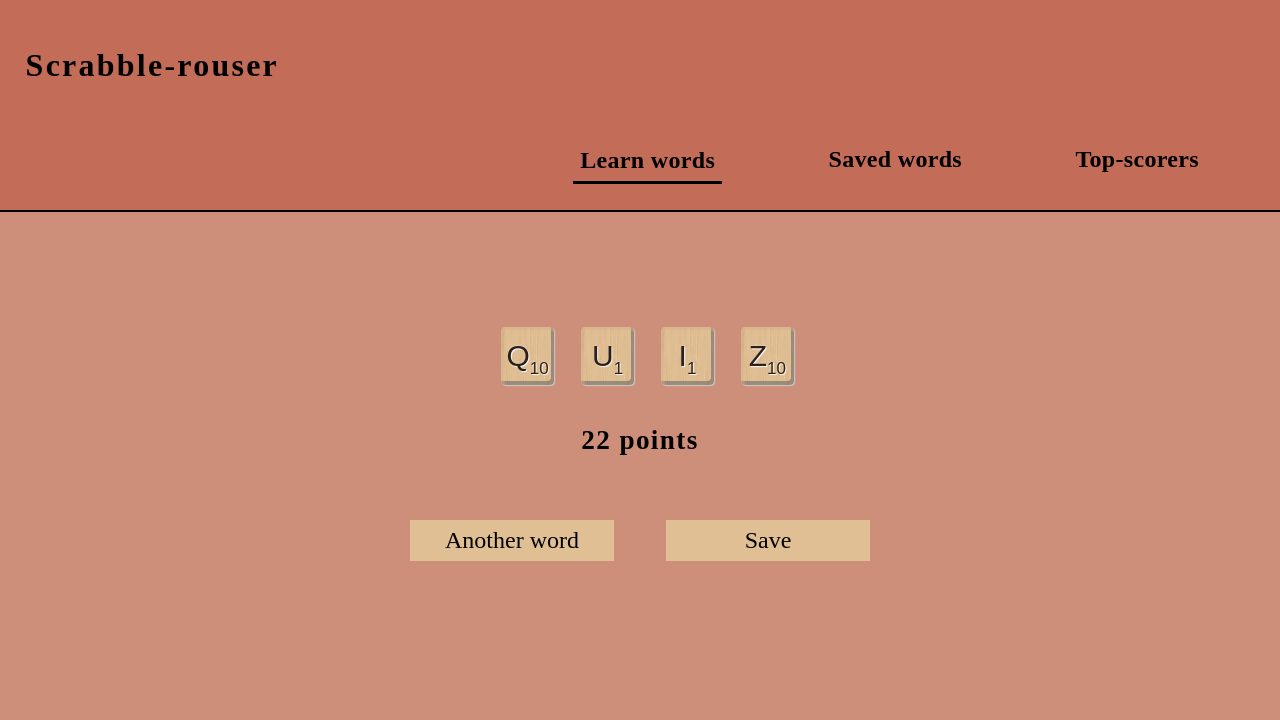
Test: Words › Should have a button to get another word
Click the button with class "new": (513, 541) [410,520,615,561]
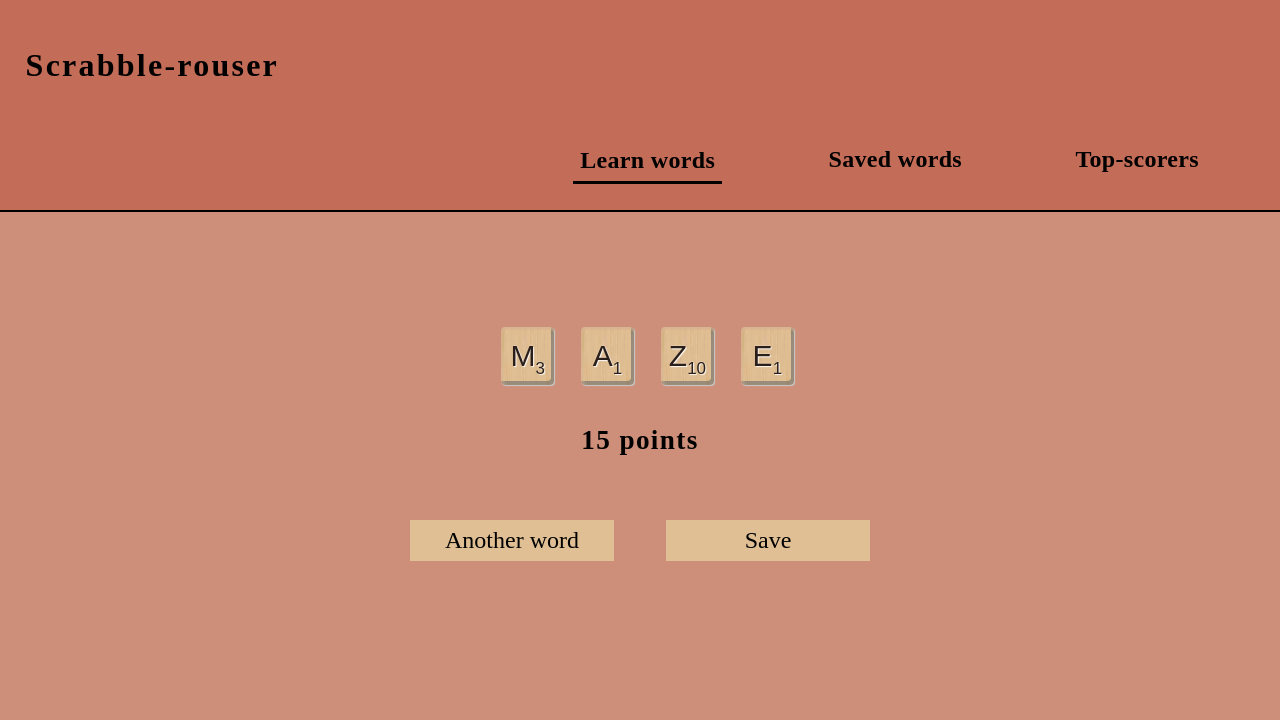
Check: the heading "15 points" is shown, box [581,425,699,456]
